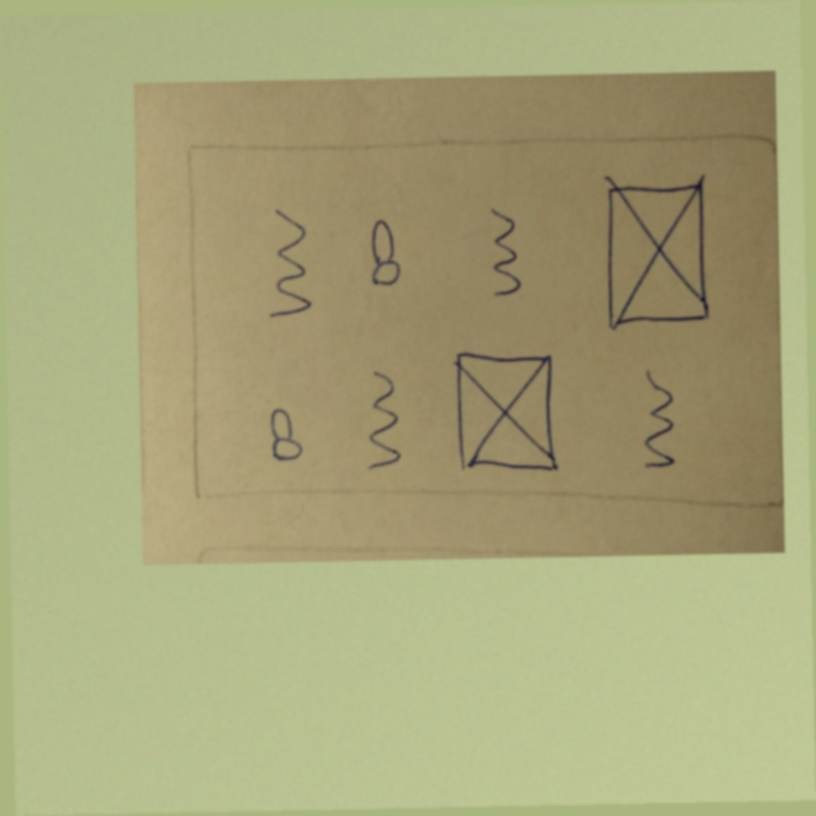image: (590, 174, 714, 334), (441, 342, 568, 481)
switch: (358, 207, 414, 294), (255, 395, 311, 467)
text: (248, 200, 335, 328), (627, 361, 689, 475), (472, 195, 532, 306), (350, 365, 410, 469)
